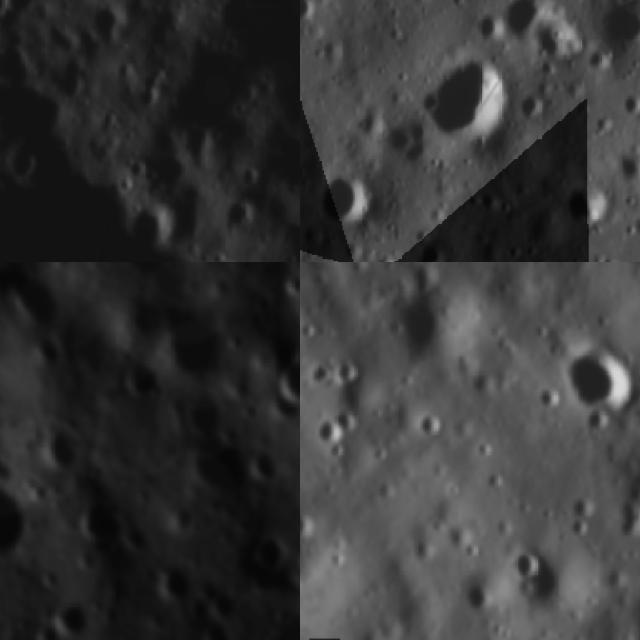crater: (399, 31, 535, 165), (549, 334, 640, 427), (302, 160, 386, 244), (176, 394, 243, 491), (514, 0, 589, 74), (373, 104, 447, 177), (549, 169, 621, 242), (583, 0, 640, 70), (306, 404, 366, 455), (302, 348, 363, 397), (6, 267, 56, 325), (127, 203, 179, 255), (599, 136, 640, 199), (403, 397, 448, 448), (502, 541, 550, 587), (0, 474, 27, 555), (81, 495, 118, 554), (122, 357, 160, 408), (243, 535, 290, 571), (42, 426, 77, 472), (400, 232, 451, 262), (4, 144, 41, 185), (610, 87, 640, 126), (18, 475, 50, 511), (53, 606, 90, 634), (225, 200, 257, 232), (277, 361, 300, 405), (300, 0, 329, 33), (300, 497, 320, 541), (279, 266, 300, 303), (33, 569, 64, 591), (242, 164, 266, 186), (600, 251, 640, 262)
